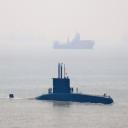submarine: (10, 63, 117, 104)
